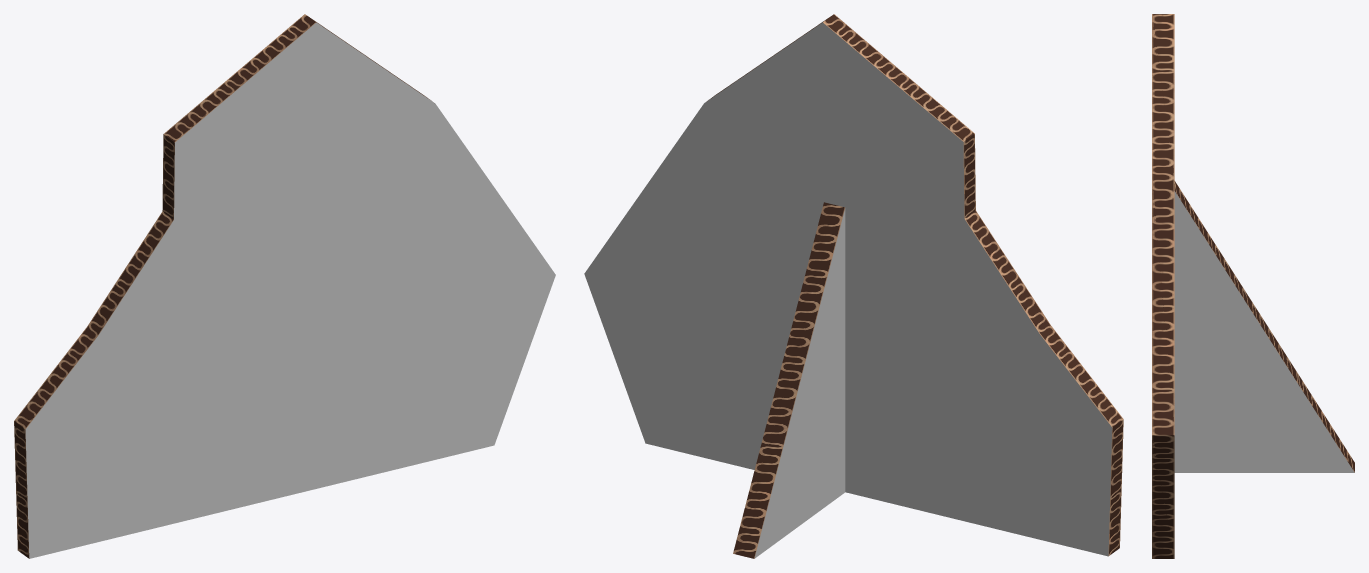
The model's file is Cactus_4.fbx.
The picture shows the model from 3 angles, left to right: view 1: azimuth 30°, elevation 25°; view 2: azimuth 150°, elevation 25°; view 3: azimuth 270°, elevation 25°; orthographic projection.
Visible parts, largest first — view 1: Cactus 4_LOD0; view 2: Cactus 4_LOD0; view 3: Cactus 4_LOD0.
Boxes of the visible parts, x1,y1,x2,y2 form: Cactus 4_LOD0: (14,14,555,558); Cactus 4_LOD0: (584,14,1123,558); Cactus 4_LOD0: (1152,14,1354,558).
Bounding box in the file's own units: 356 × 299 × 120.
